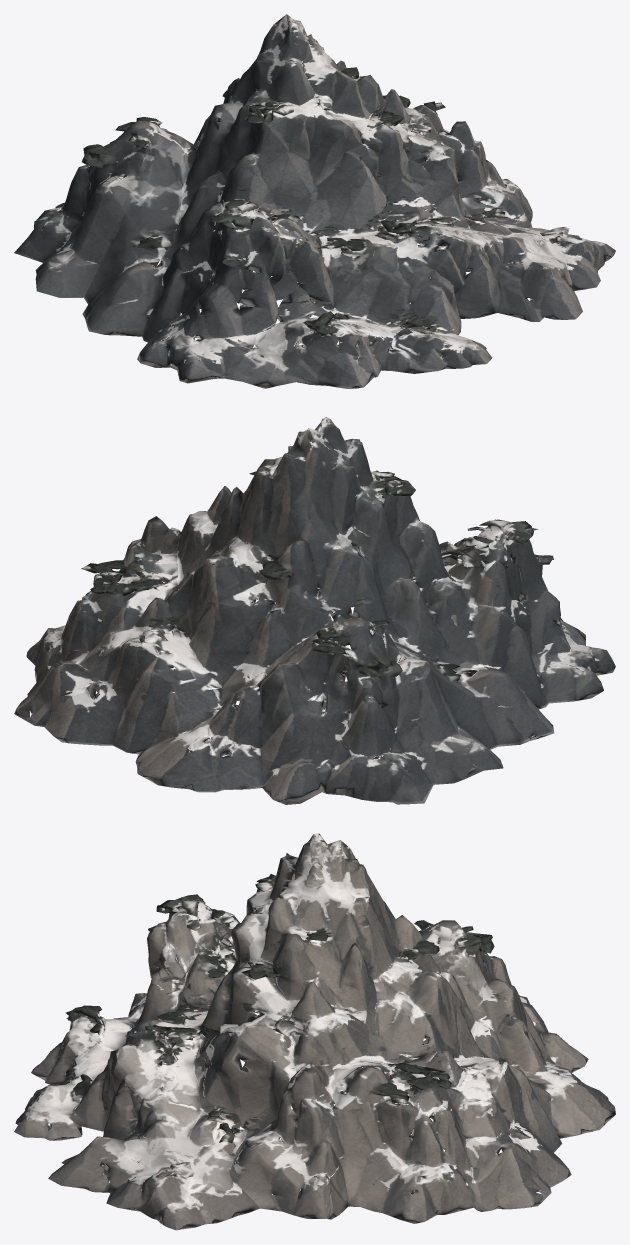
File: SnowyMountainPeak.fbx
3 views of the same model, one above another, from view 1: azimuth 30°, elevation 25°; view 2: azimuth 150°, elevation 25°; view 3: azimuth 270°, elevation 25° (orthographic). The views are drawn at different scales.
Parts seen in each view (by area): view 1: SnowyMountainPeak; view 2: SnowyMountainPeak; view 3: SnowyMountainPeak.
Boxes of the visible parts, x1,y1,x2,y2 form: SnowyMountainPeak: (14, 14, 615, 388); SnowyMountainPeak: (14, 417, 615, 804); SnowyMountainPeak: (14, 833, 615, 1230).
Bounding box in the file's own units: 193 × 100 × 200.
Materials: 1 (1 with a texture image).
